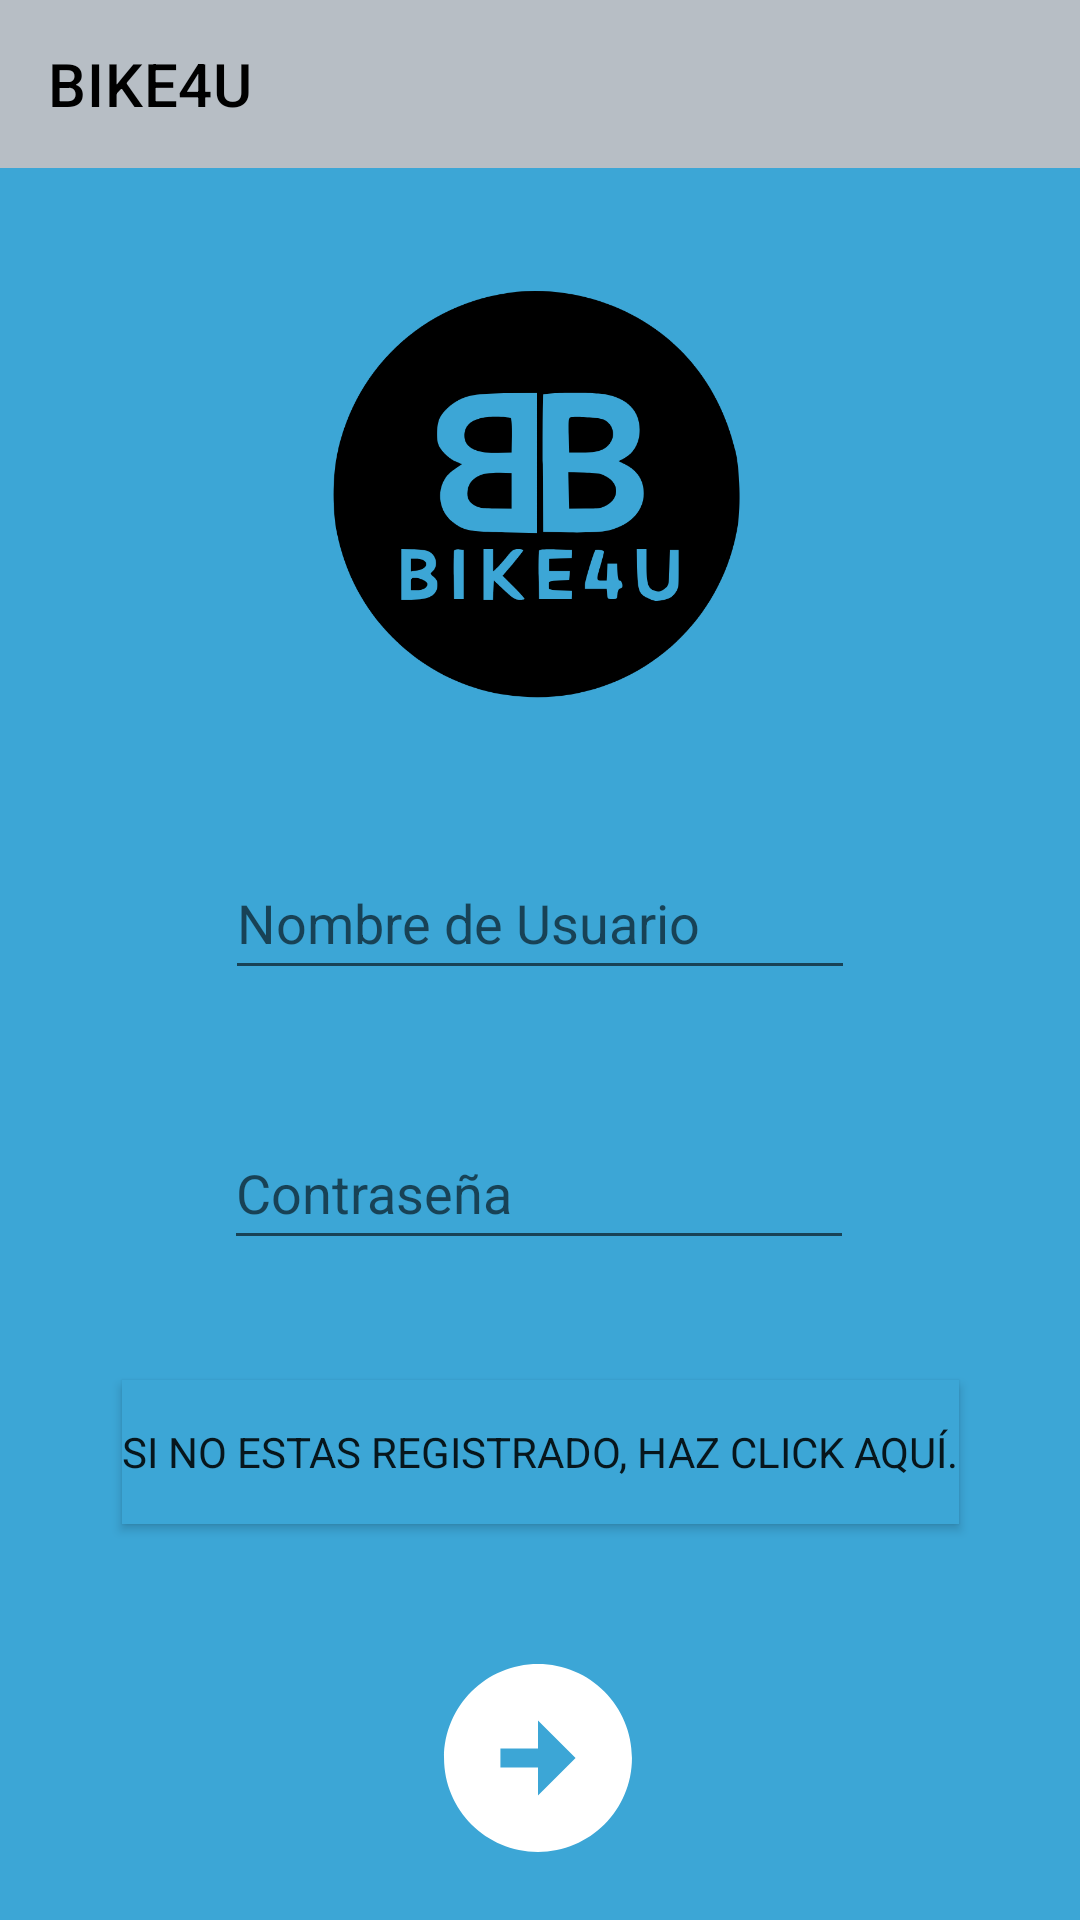

Named icons in this screenshot (1080 × 1920) and their centers, (x=x, y=y):
acceder: (x=538, y=1758)
